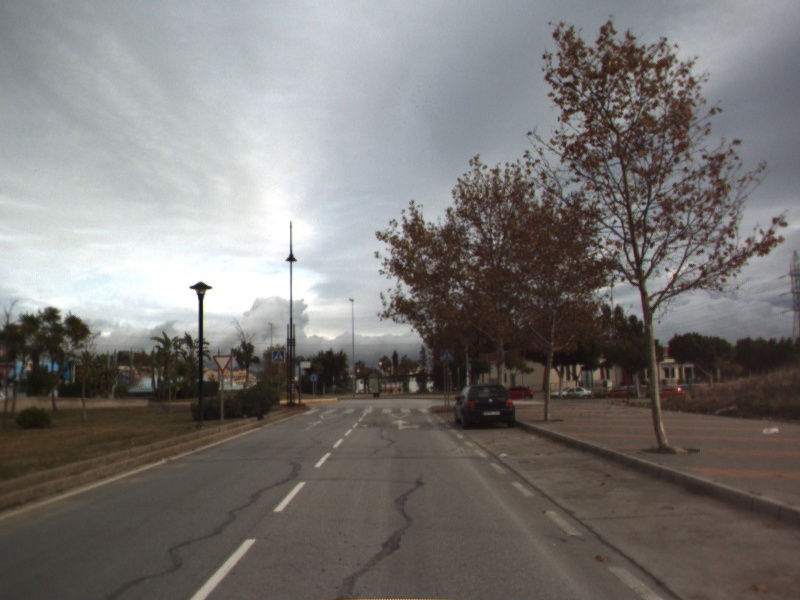STRAIGHT: (302, 419, 326, 432)
STRAIGHT_RIGHT: (390, 418, 423, 431)
